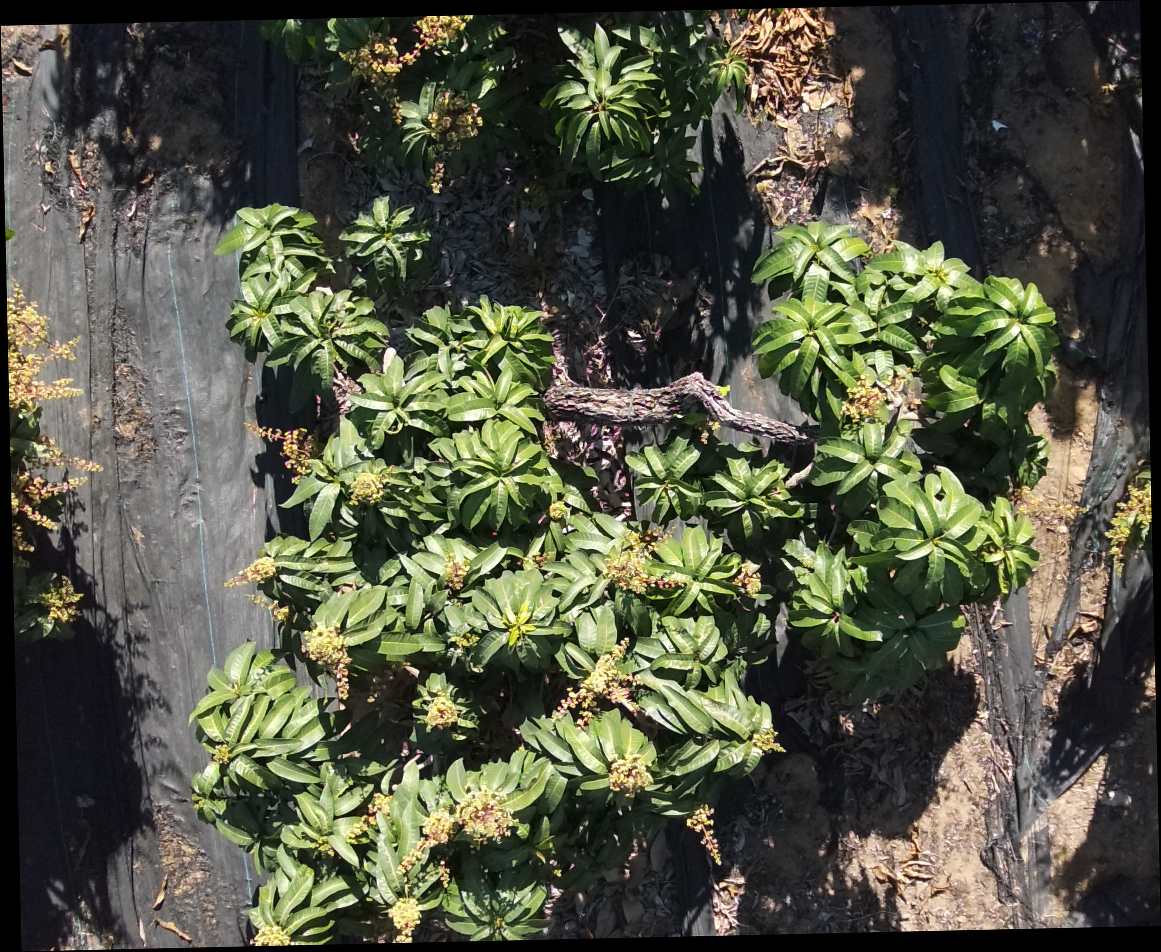flowers: (12, 436, 102, 553), (398, 788, 518, 871), (8, 284, 81, 412), (554, 639, 638, 720), (428, 90, 484, 193), (603, 529, 684, 594), (842, 367, 922, 424), (1106, 478, 1152, 574), (341, 33, 420, 88), (247, 421, 314, 483), (303, 624, 351, 701), (418, 674, 463, 729), (38, 574, 84, 623), (686, 804, 722, 866), (416, 15, 473, 49), (609, 754, 654, 796), (224, 555, 278, 587), (388, 897, 422, 942), (349, 472, 387, 506), (733, 560, 763, 598), (443, 554, 470, 592), (752, 726, 786, 753), (251, 924, 292, 945), (450, 631, 480, 649), (340, 750, 362, 759)
